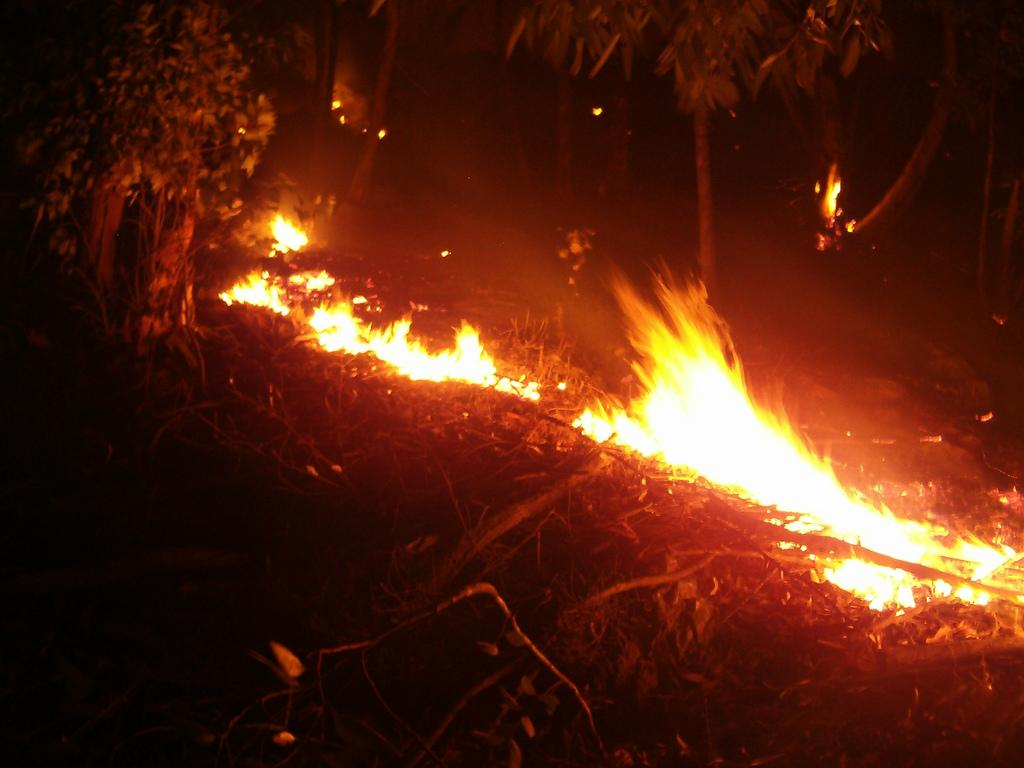fire: (644, 358, 734, 482), (396, 338, 482, 376), (310, 302, 362, 354), (224, 272, 286, 308)
